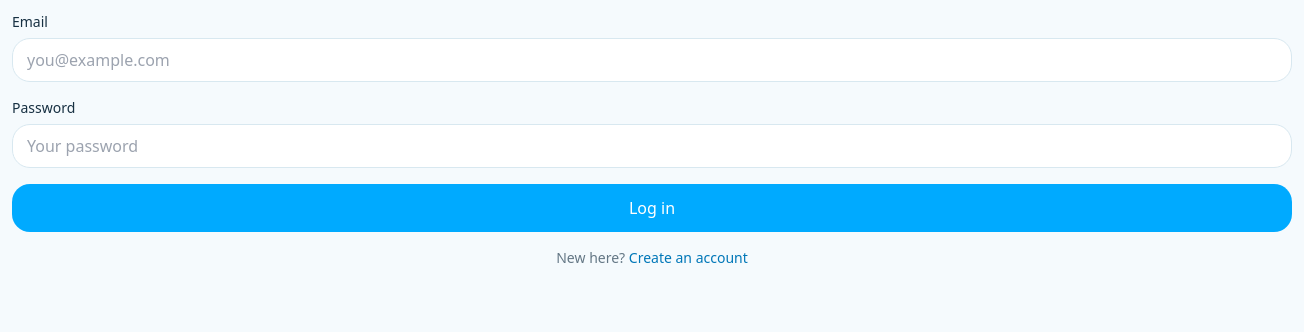
Test: LoginForm › shows an honest notice after a valid submit (no fake success)
In the field labelled "Email": [652, 60] box [12,38,1292,82], type "ada@example.com"
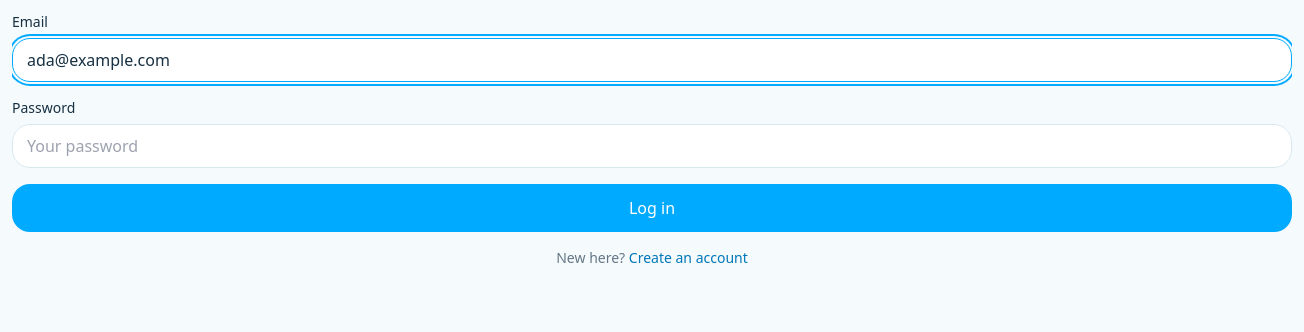
In the password field labelled "Password": [652, 146] box [12,124,1292,168], type "sup3rsecret"
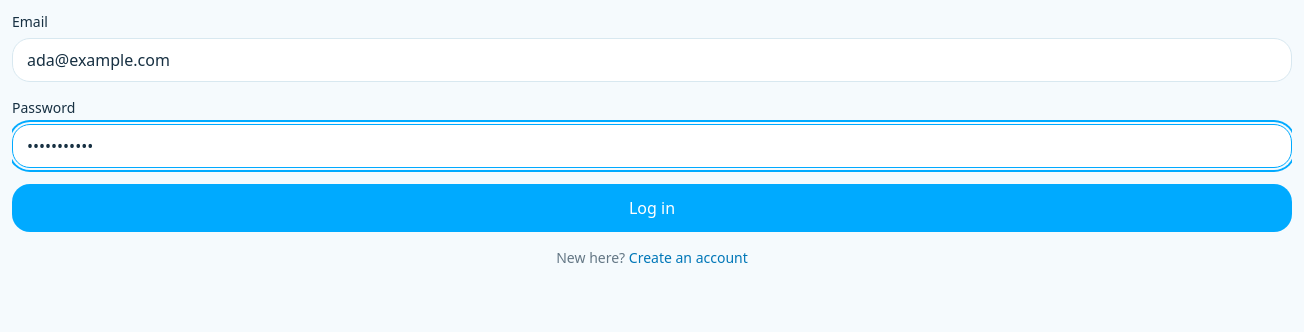
Click the button "Log in": [652, 208] box [12,184,1292,232]
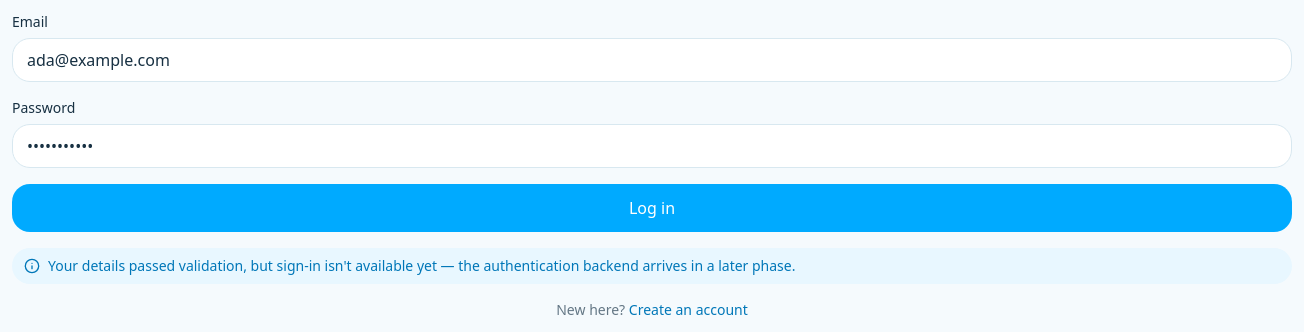
Expected: the text "isn't available yet" is shown, [48,256,796,275]
